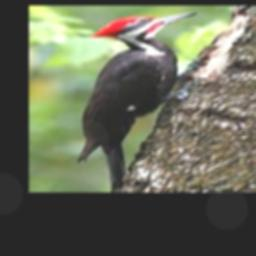Woodpecker: (78, 11, 199, 191)
